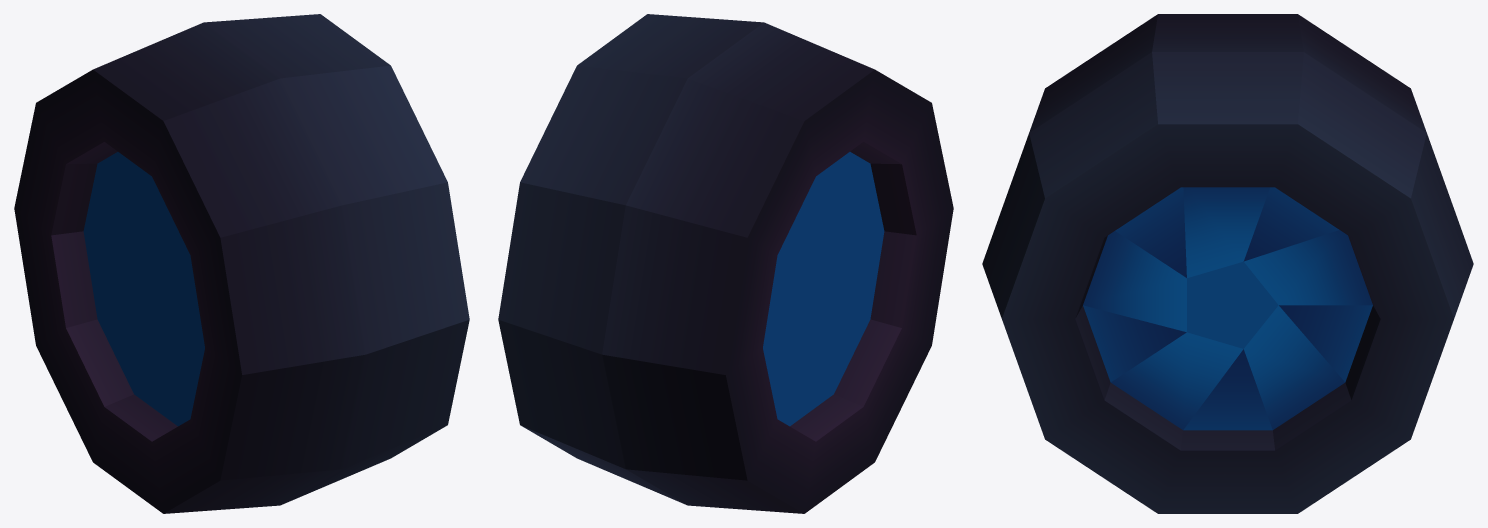
Rendered from Model_car_wheel_large.gltf.
3 views of the same model, side by side, from view 1: azimuth 30°, elevation 25°; view 2: azimuth 150°, elevation 25°; view 3: azimuth 270°, elevation 25° (orthographic).
Visible parts, largest first — view 1: Model_car_wheel_large; view 2: Model_car_wheel_large; view 3: Model_car_wheel_large.
Part boxes in pixels (bbox=[...]): Model_car_wheel_large: bbox=[14, 14, 469, 513]; Model_car_wheel_large: bbox=[498, 14, 953, 513]; Model_car_wheel_large: bbox=[982, 14, 1473, 513].
Bounding box in the file's own units: 0.5141 × 0.922 × 0.9694.
Materials: 1 (1 with a texture image).
